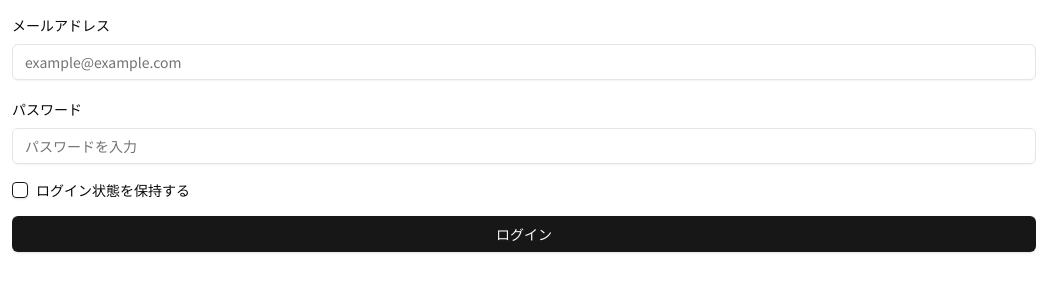
Test: LoginForm › フォームバリデーション › 無効なメールアドレス形式でsubmitするとバリデーションエラーが表示されること
This screenshot has width=1048, height=297.
Note: fireEventを使って値を直接設定（ブラウザのバリデーションをバイパス）
Type "invalid-email" into the field labelled "メールアドレス" at (524, 62), box [12, 44, 1036, 80]
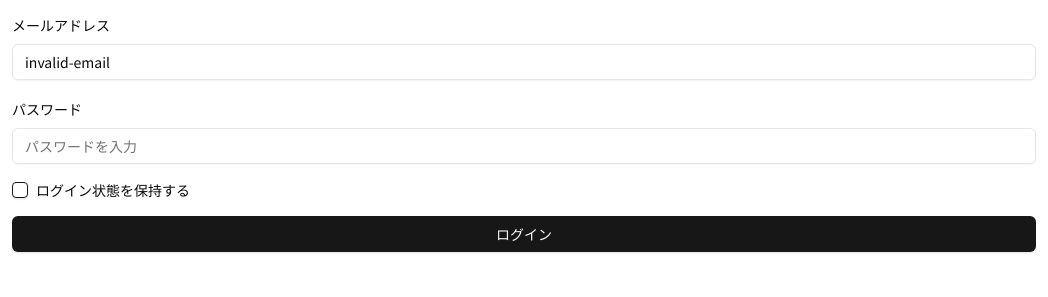
Type "password123" into the password field labelled "パスワード" at (524, 146), box [12, 128, 1036, 164]
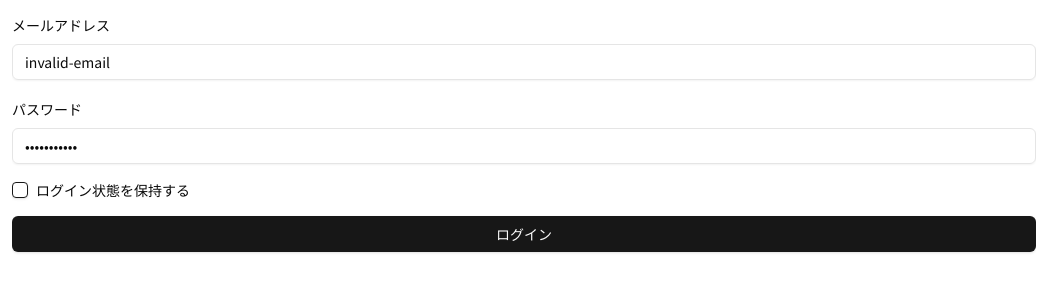
Submit the form
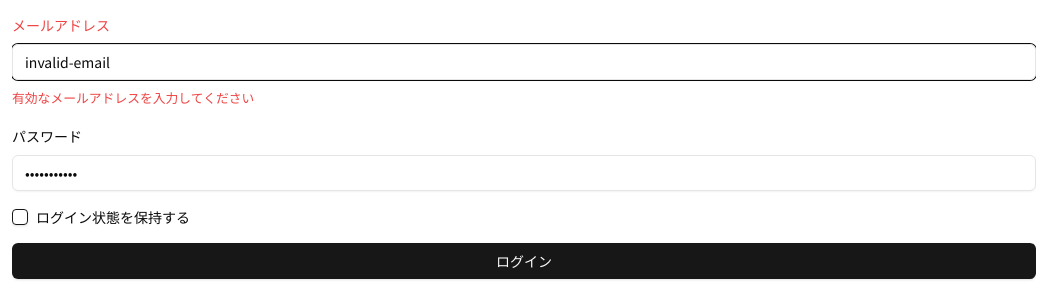
Expected: the text "有効なメールアドレスを入力してください" is shown, [12, 88, 254, 107]
